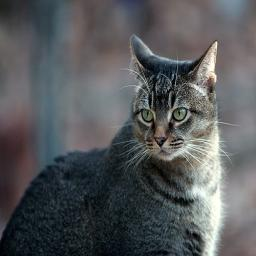catnose: (154, 135, 168, 149)
